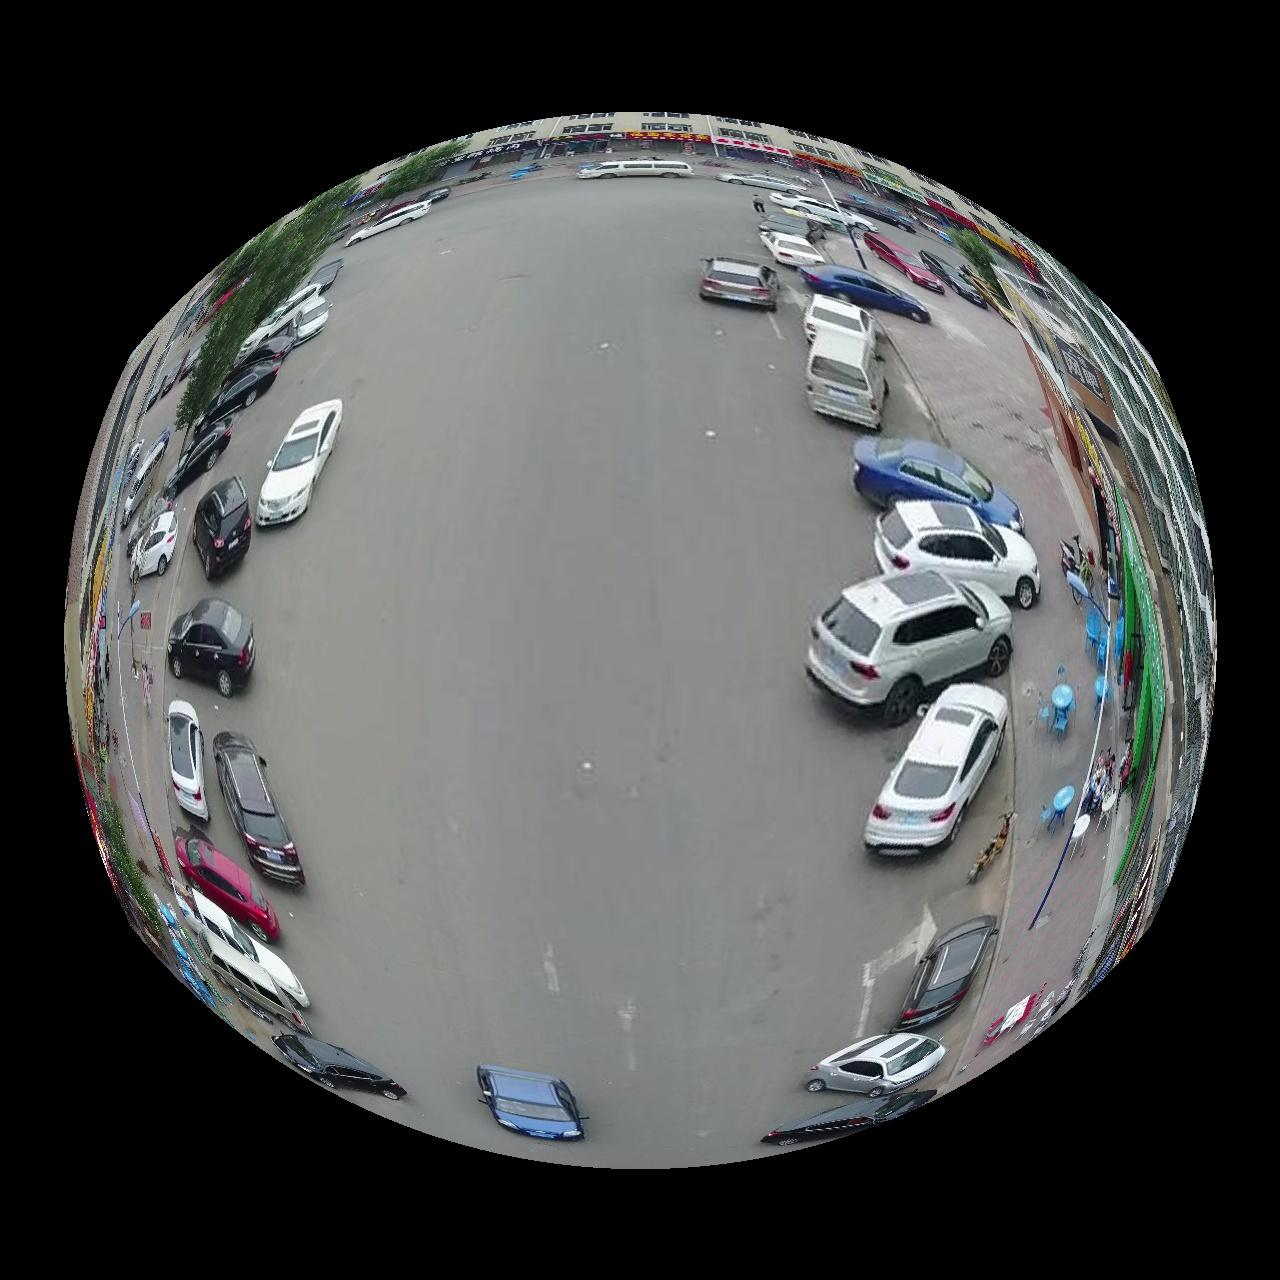cars: (806, 570, 1015, 726), (865, 685, 1010, 856), (874, 501, 1042, 608), (170, 881, 309, 1010), (855, 436, 1026, 535), (212, 733, 304, 886), (173, 832, 280, 941), (898, 918, 1000, 1032), (203, 931, 308, 1035), (256, 399, 342, 525), (763, 1092, 938, 1146), (804, 1034, 948, 1098), (271, 1036, 407, 1102), (168, 599, 252, 696), (806, 331, 888, 429), (477, 1068, 584, 1142), (801, 263, 931, 322), (234, 282, 320, 363), (191, 476, 251, 579), (196, 359, 280, 429), (162, 418, 231, 498), (166, 700, 207, 822), (700, 256, 779, 309), (770, 190, 876, 230), (345, 200, 431, 246), (805, 293, 877, 348), (128, 511, 177, 583), (227, 334, 293, 377), (577, 157, 693, 178), (761, 230, 828, 266), (719, 171, 805, 192), (293, 295, 331, 343), (307, 258, 343, 292)
trees: (176, 176, 358, 427), (370, 138, 468, 200)
